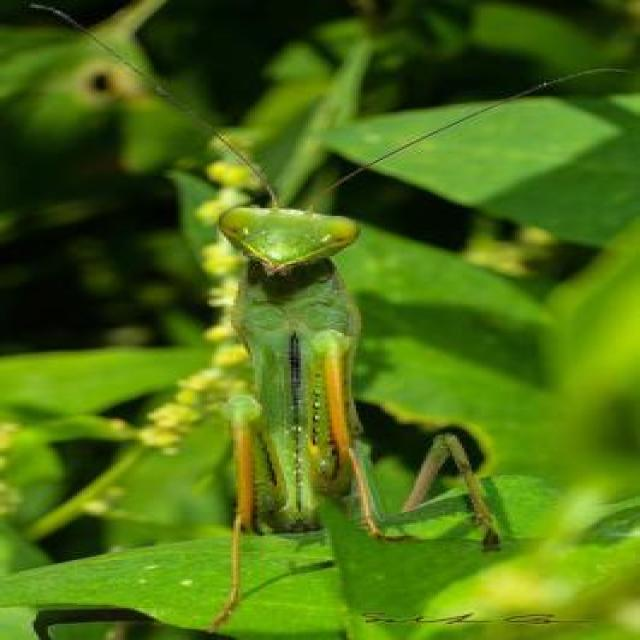antennae: (6, 2, 285, 210), (309, 70, 630, 212)
body: (206, 208, 356, 520)
insect: (9, 0, 636, 631)
legs: (308, 335, 393, 535), (208, 395, 275, 626), (401, 436, 508, 539)
mouthpart: (255, 251, 306, 279)
